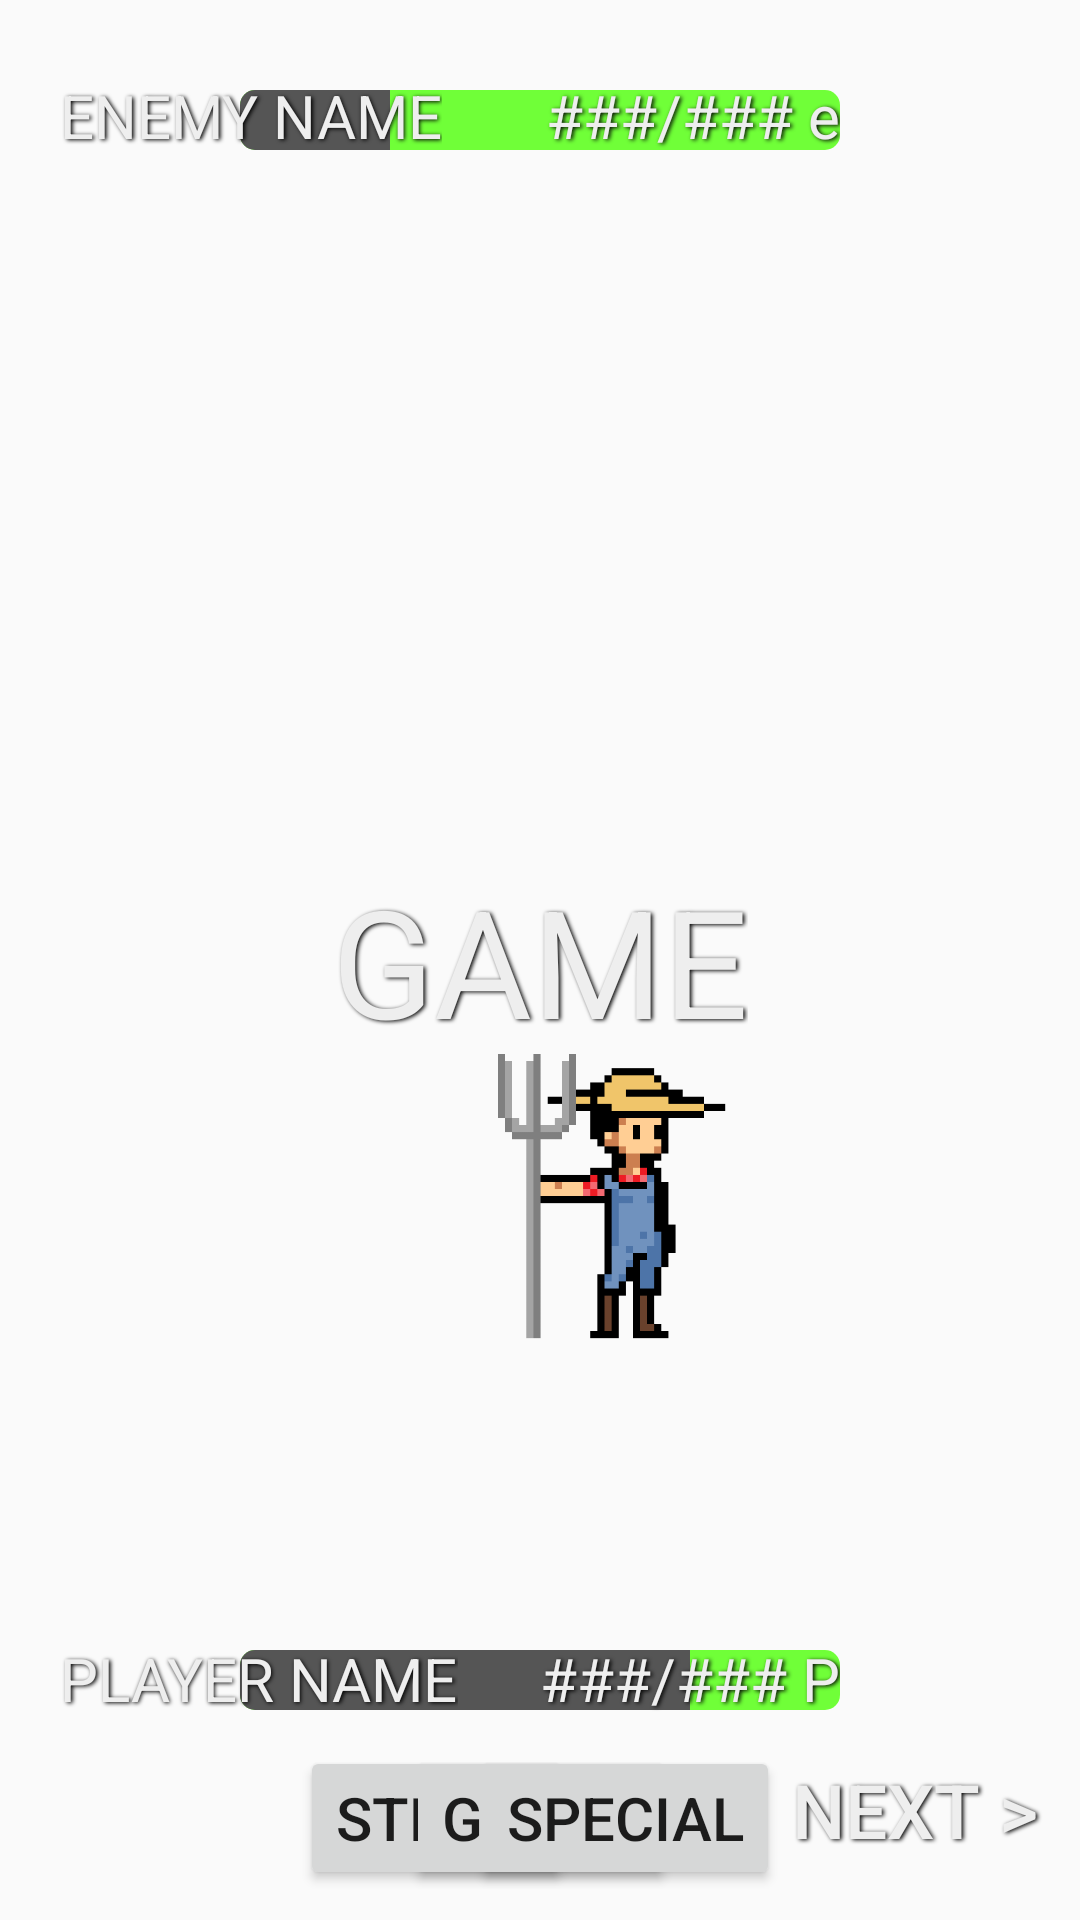

Icon click points for this 1080 x 1920 phone screenshot, format (x,y):
farm: (612,1196)
